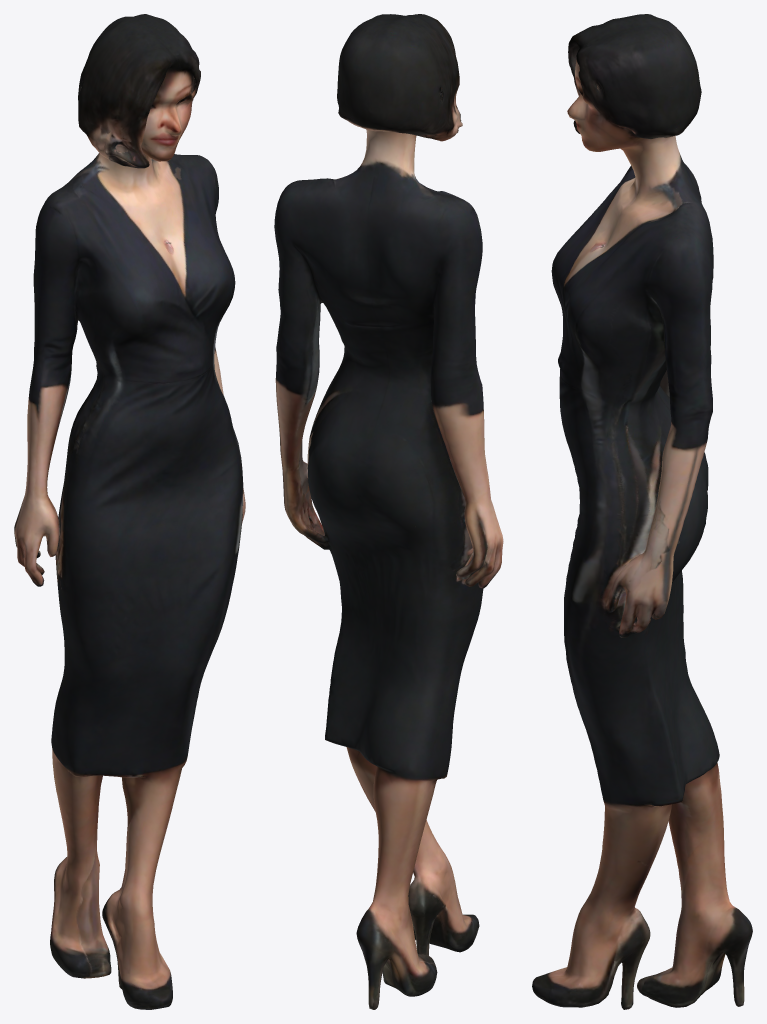
File: woman_full_body_feet_1116181216.fbx
3 views of the same model, side by side, from view 1: azimuth 30°, elevation 25°; view 2: azimuth 150°, elevation 25°; view 3: azimuth 270°, elevation 25° (orthographic). The views are drawn at different scales.
Parts seen in each view (by area): view 1: Mesh_0; view 2: Mesh_0; view 3: Mesh_0.
Part boxes in pixels (left/top/right/bottom): Mesh_0: left=14, top=14, right=245, bottom=1009; Mesh_0: left=274, top=14, right=503, bottom=1009; Mesh_0: left=532, top=14, right=752, bottom=1009.
Size of the model in its own units: 47.32 by 200 by 40.1.
1 material, 1 textured.
